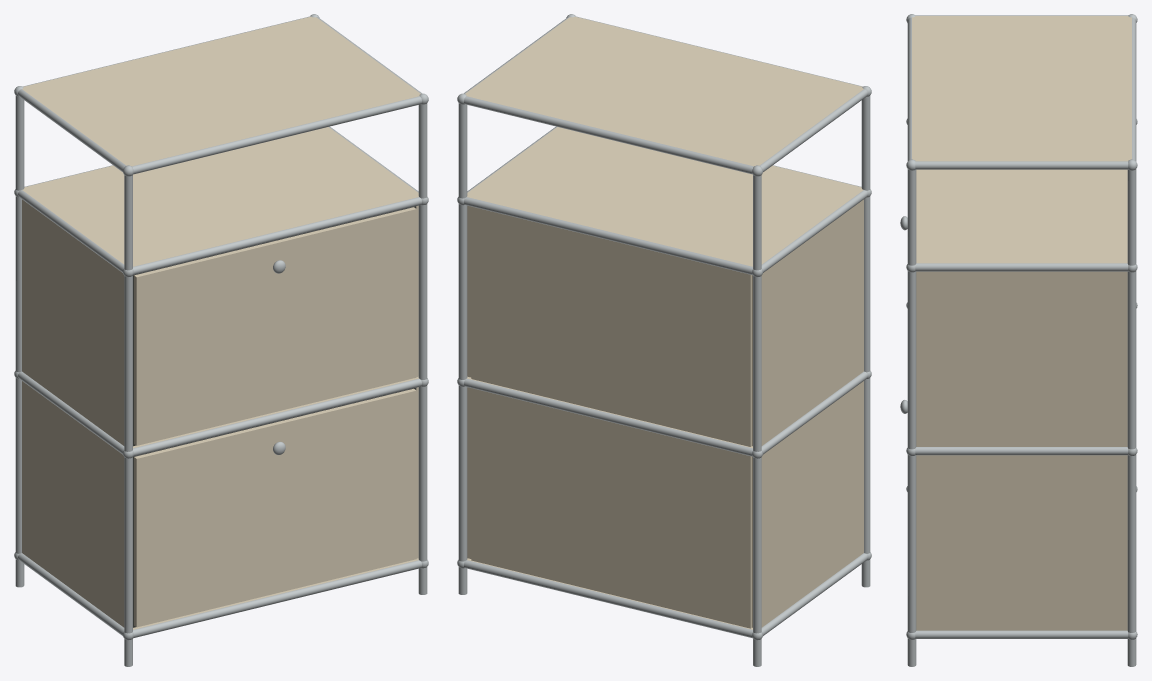
Rendered from layer-600-940-ivory.glb.
3 renders of one model, left to right at view 1: azimuth 30°, elevation 25°; view 2: azimuth 150°, elevation 25°; view 3: azimuth 270°, elevation 25°, orthographic.
Parts seen in each view (by area): view 1: drop down door (×2), horizontal panel (×4), left side, 15mm stainless tube (×11), right side; view 2: back, horizontal panel (×2), left side, 15mm stainless tube (×11), right side; view 3: right side, horizontal panel (×2), 15mm stainless tube (×8).
Part boxes in pixels (x1,y1,x2,y2): drop down door (×2): (134, 207, 416, 627); horizontal panel (×4): (22, 16, 420, 629); left side: (22, 199, 124, 627); 15mm stainless tube (×11): (15, 89, 427, 666); right side: (416, 205, 418, 558); back: (471, 206, 751, 628); horizontal panel (×2): (465, 16, 863, 266); left side: (752, 199, 863, 627); 15mm stainless tube (×11): (458, 89, 870, 666); right side: (467, 205, 471, 558); right side: (916, 271, 1127, 630); horizontal panel (×2): (912, 16, 1131, 263); 15mm stainless tube (×8): (907, 17, 1136, 666).
Bounding box in the file's own units: 0.6 × 0.94 × 0.4.
